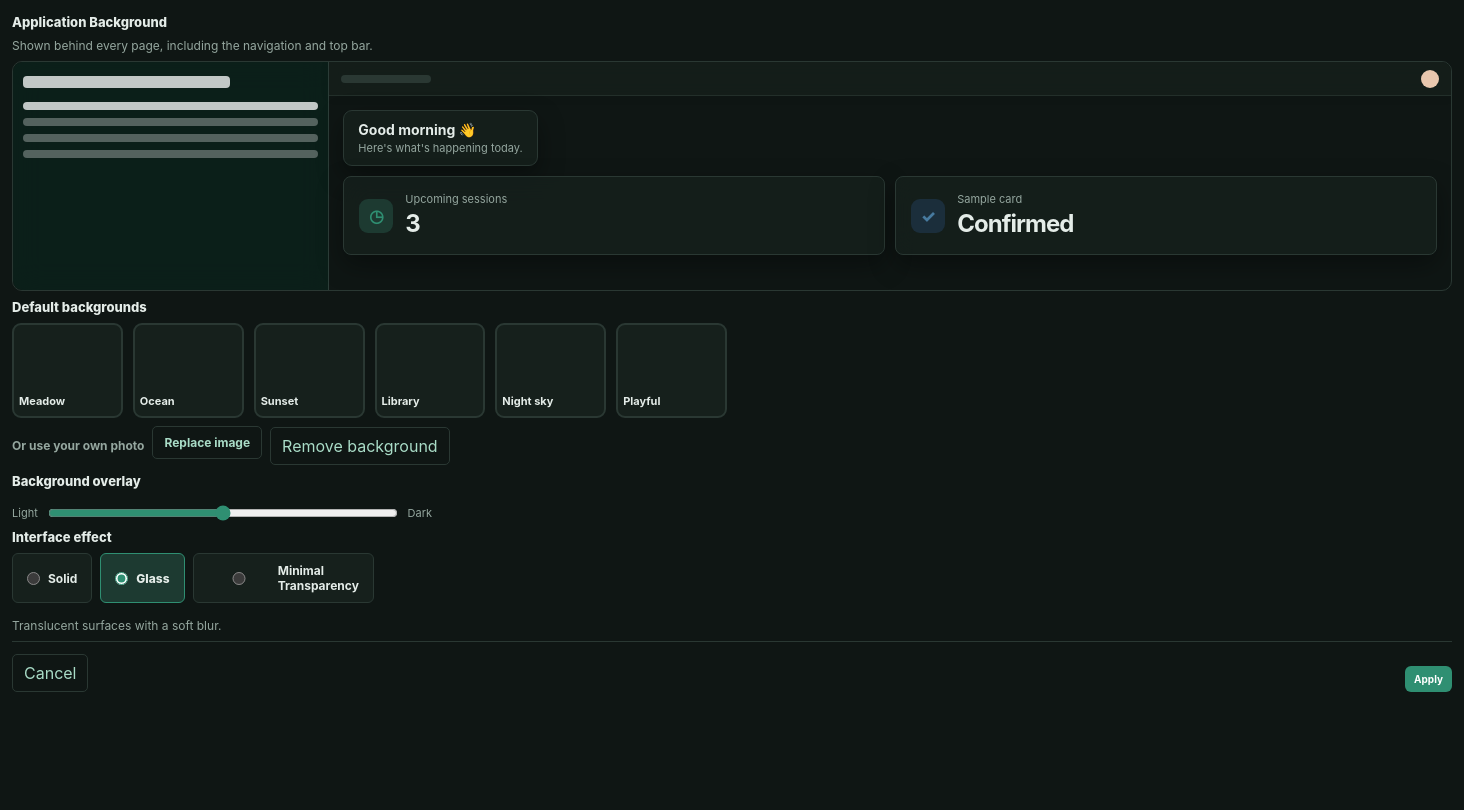
removes a saved background without changing the theme
The image size is (1464, 810).
Click the button "Remove background".
click(360, 446)  # box [270,427,450,465]
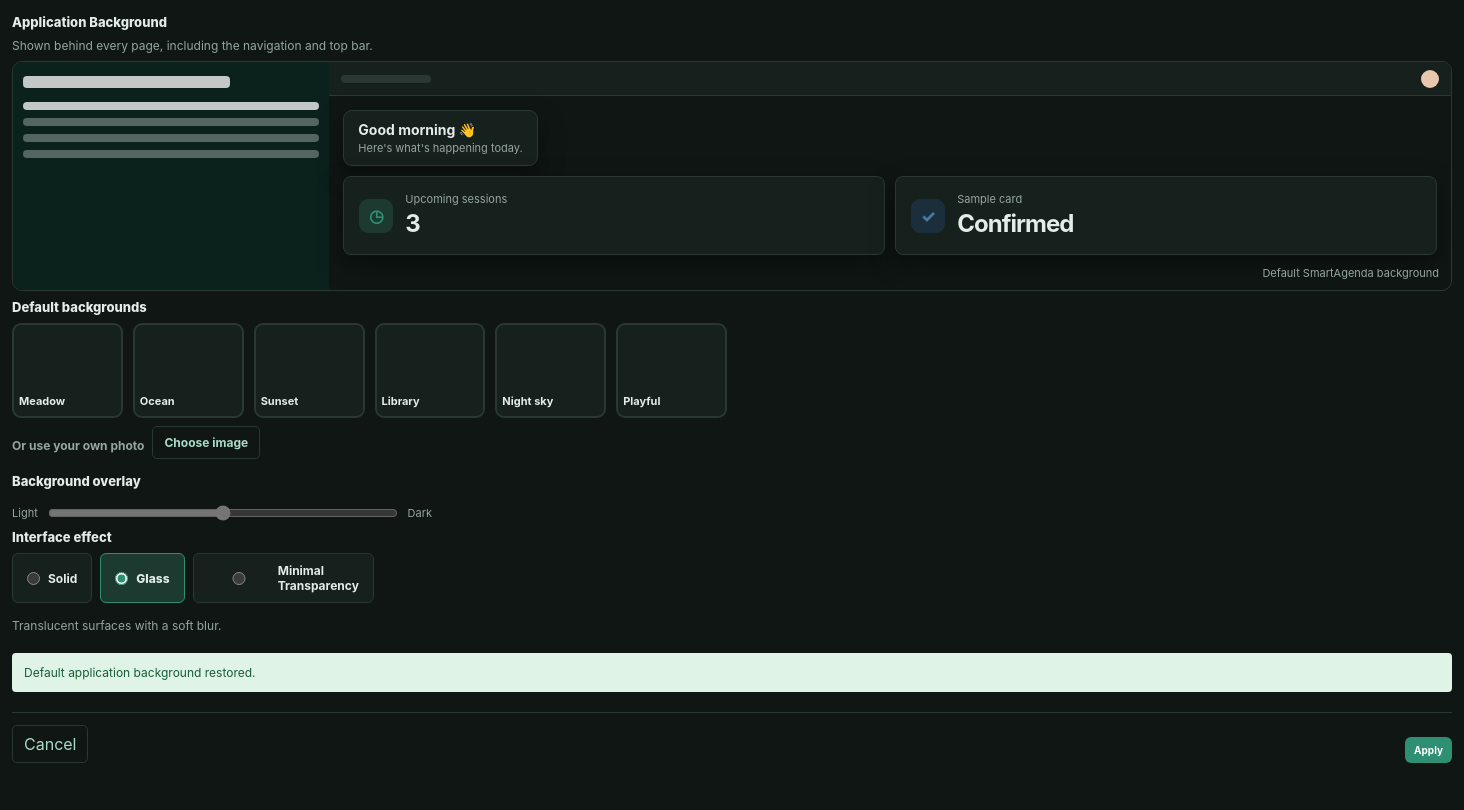
Now the text "Default application background restored." is shown, box [12,653,1452,692]
Now the text "Default SmartAgenda background" is shown, box [1262,266,1439,280]
